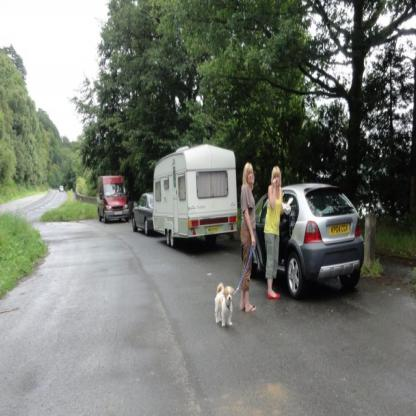Car: (242, 183, 364, 299), (132, 192, 153, 235), (59, 186, 64, 192)
